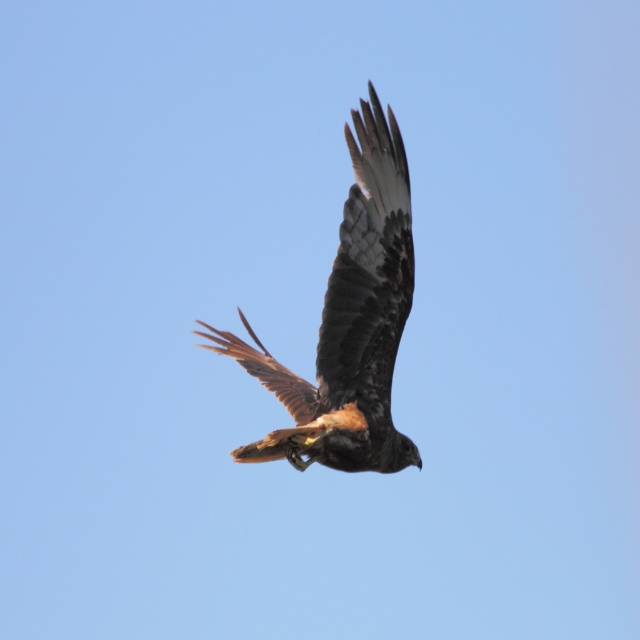Eagle: (193, 76, 426, 478)
